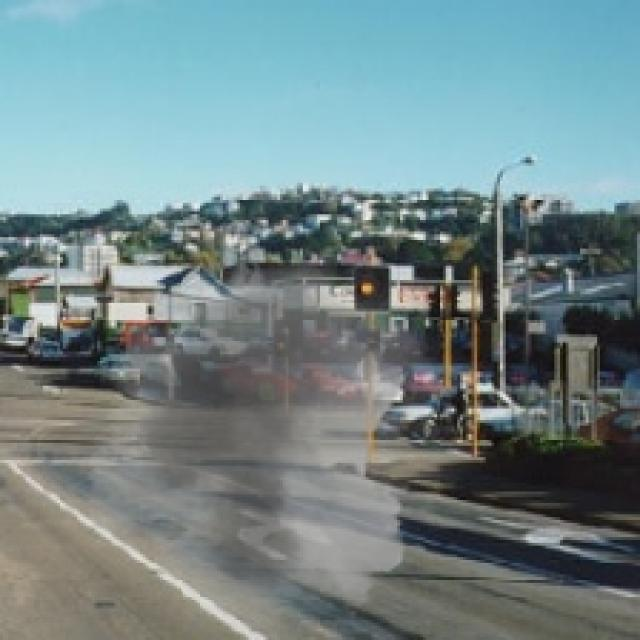smoke: (66, 240, 491, 631)
